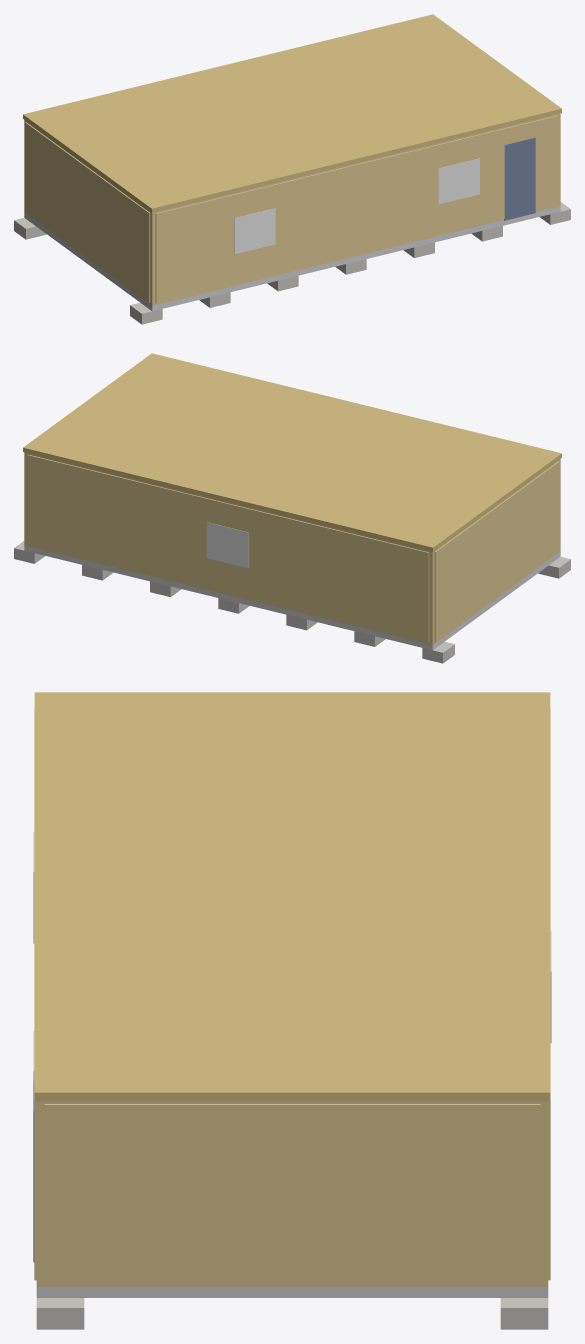
Rendered from Studio-40-Base-GoldenTan-LOD0.glb.
The picture shows the model from 3 angles, top to bottom: view 1: azimuth 30°, elevation 25°; view 2: azimuth 150°, elevation 25°; view 3: azimuth 270°, elevation 25°; orthographic projection. The views are drawn at different scales.
Visible parts, largest first — view 1: RoofMain, ExteriorPanelsStandard, BaseFrame, WindowsStandard, ExteriorShell, FoundationBlocks, EntryDoor; view 2: RoofMain, ExteriorPanelsStandard, BaseFrame, ExteriorShell, FoundationBlocks, WindowsStandard; view 3: RoofMain, ExteriorPanelsStandard, ExteriorShell, BaseFrame, FoundationBlocks.
Boxes of the visible parts, x1,y1,x2,y2 form: RoofMain: (23, 14, 561, 212); ExteriorPanelsStandard: (25, 115, 557, 303); BaseFrame: (24, 206, 560, 311); WindowsStandard: (234, 158, 479, 254); ExteriorShell: (24, 113, 560, 305); FoundationBlocks: (14, 202, 570, 324); EntryDoor: (504, 137, 535, 220); RoofMain: (23, 353, 561, 551); ExteriorPanelsStandard: (27, 454, 559, 642); BaseFrame: (24, 545, 560, 650); ExteriorShell: (24, 452, 560, 644); FoundationBlocks: (14, 541, 570, 663); WindowsStandard: (207, 522, 248, 568); RoofMain: (34, 692, 550, 1101); ExteriorPanelsStandard: (34, 709, 550, 1284); ExteriorShell: (36, 1101, 548, 1287); BaseFrame: (36, 1287, 548, 1297); FoundationBlocks: (36, 1298, 548, 1329).
Size of the model in its own units: 12.49 by 3.17 by 6.53.
